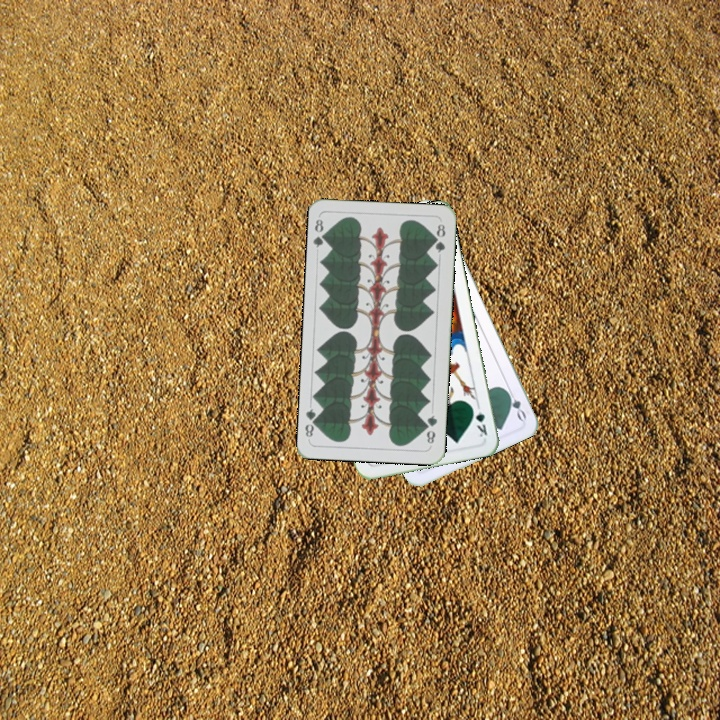G8: (310, 215, 330, 250), (422, 411, 440, 446)
GK: (468, 400, 490, 440)
GO: (501, 384, 529, 423)
